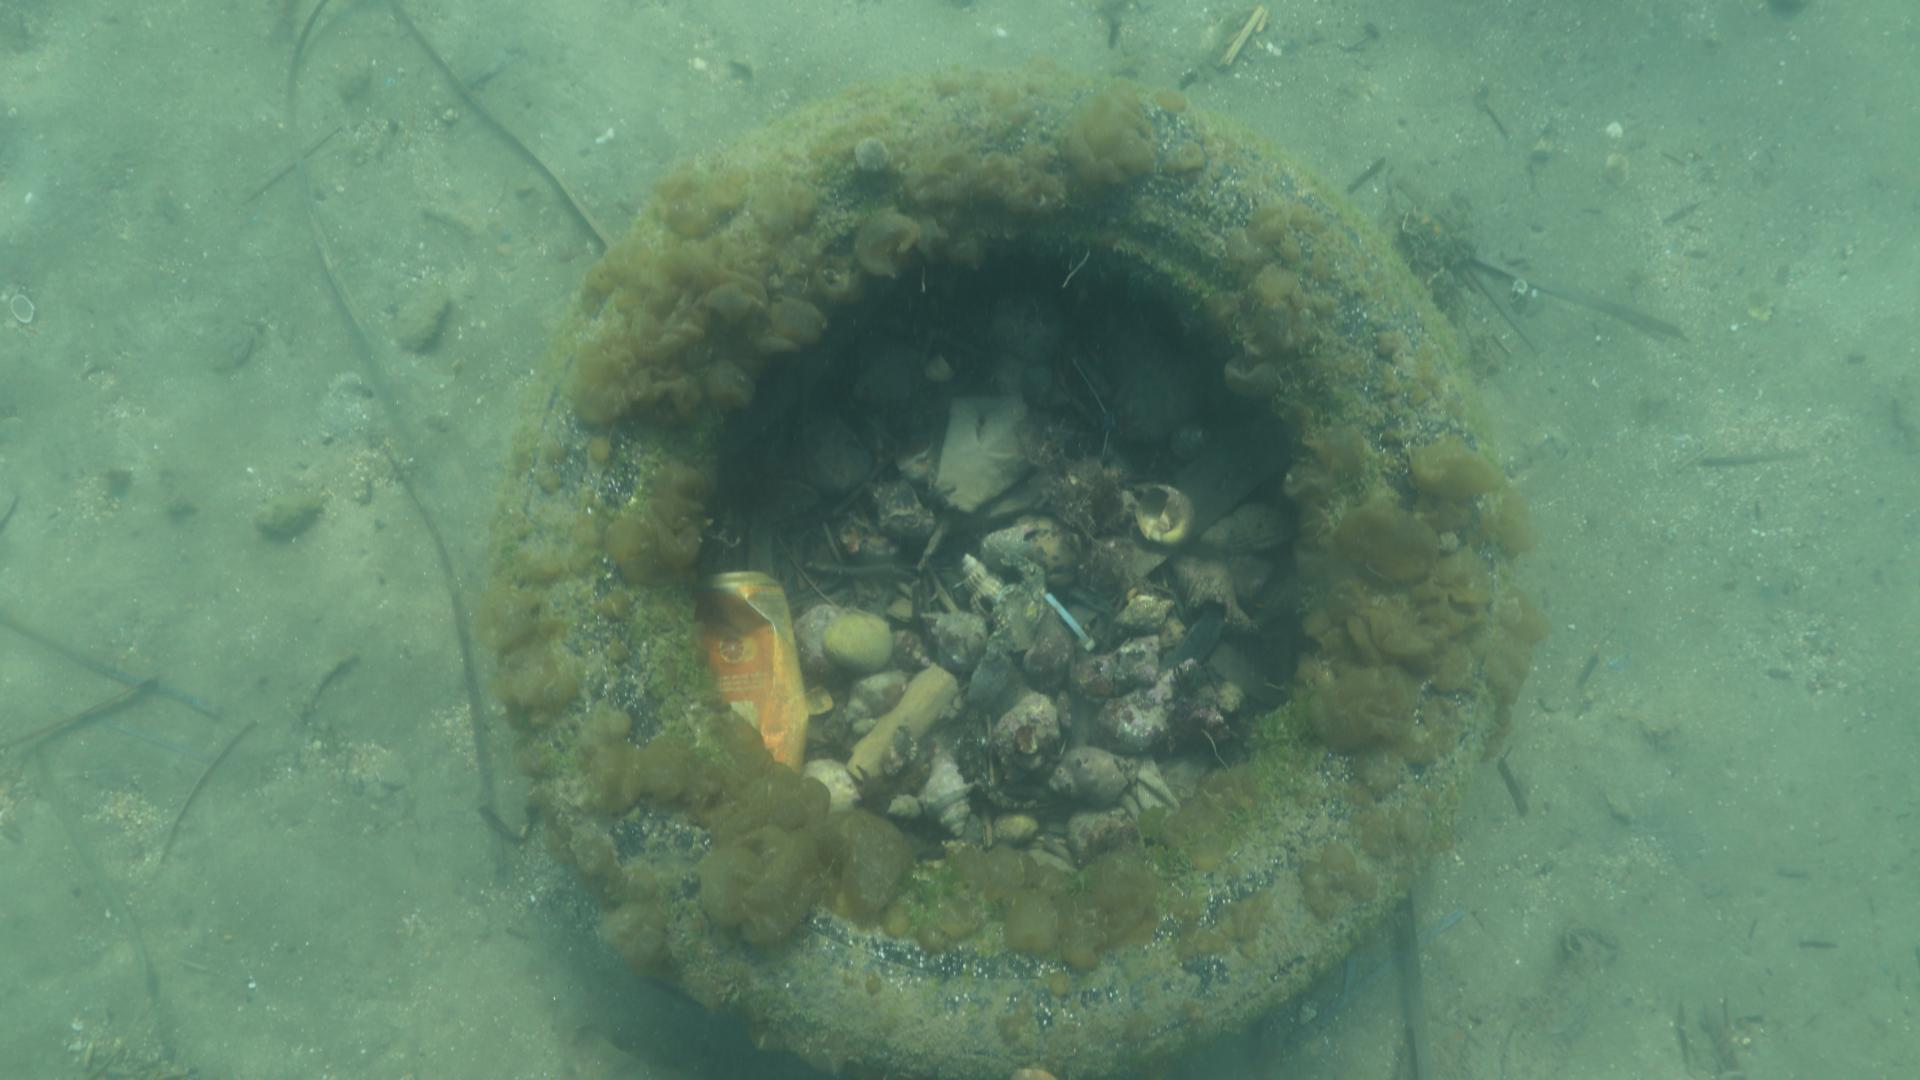tire: (492, 65, 1509, 1080)
